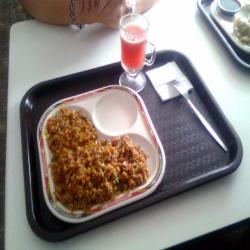rice: (38, 109, 155, 213)
